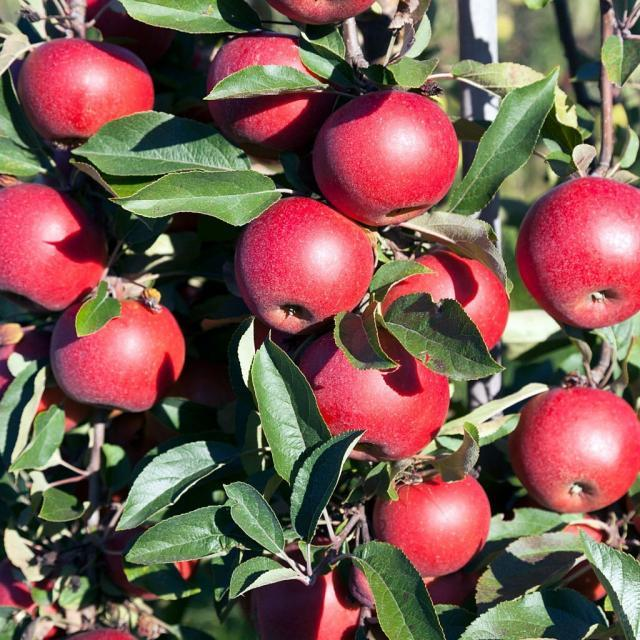Red Apple: (323, 88, 463, 226), (308, 336, 450, 462), (242, 206, 373, 328), (13, 44, 148, 158), (62, 288, 188, 410), (528, 179, 640, 312), (3, 178, 109, 308), (402, 246, 512, 363), (526, 390, 640, 498), (378, 473, 493, 569), (221, 33, 326, 133), (262, 560, 358, 640), (1, 320, 67, 423), (124, 522, 200, 606), (560, 514, 619, 598), (77, 584, 156, 640), (1, 572, 61, 640), (288, 1, 383, 28), (85, 1, 124, 48)
